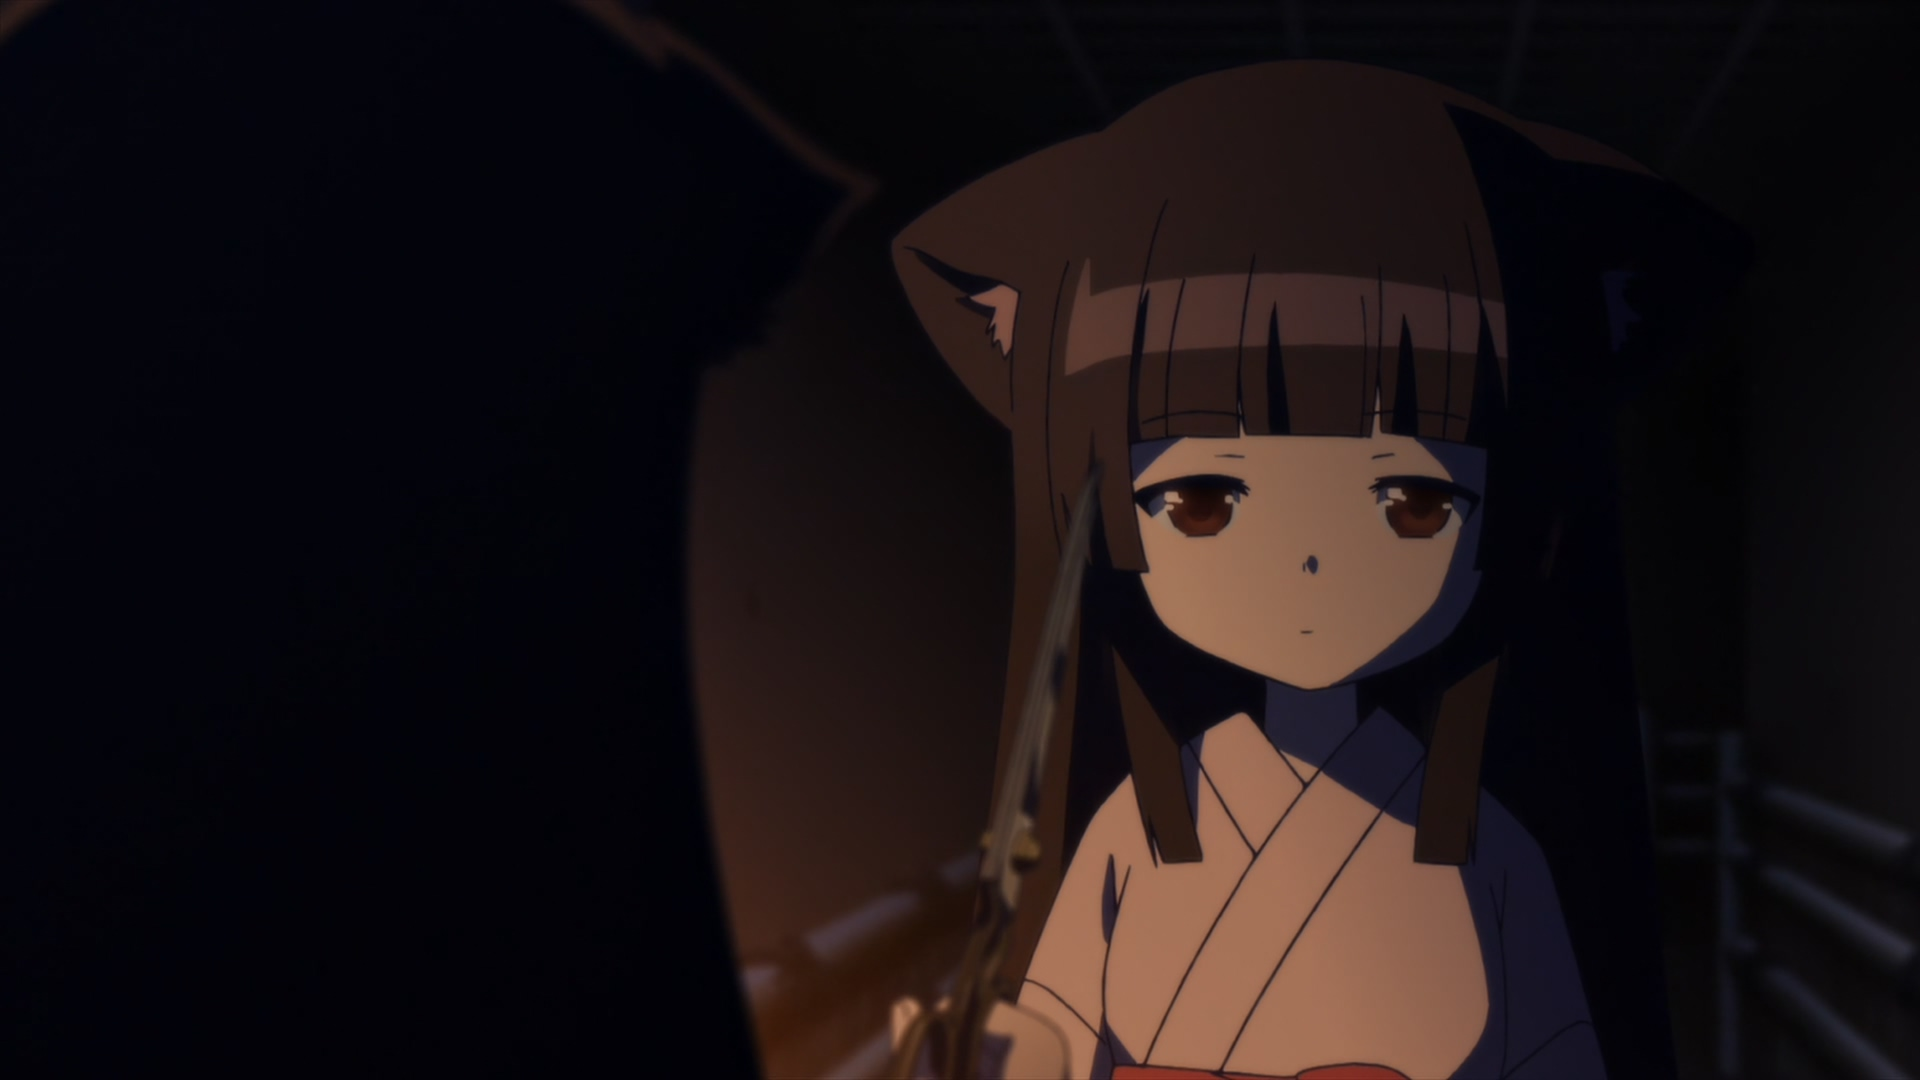樱: (887, 73, 1698, 1080)
